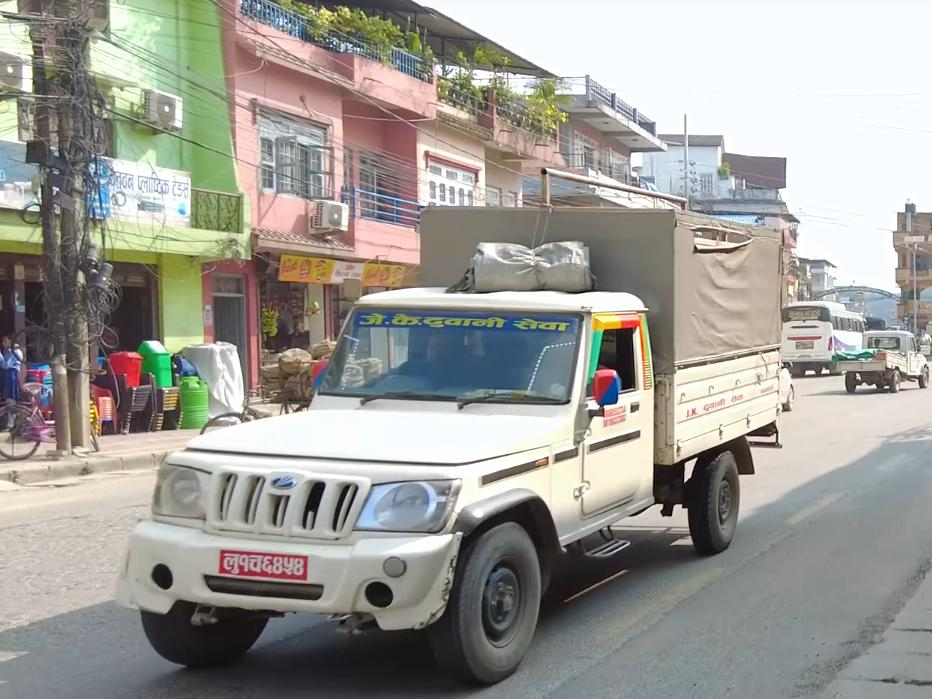bus: (772, 282, 882, 379)
transport_vehicle: (103, 189, 785, 699), (833, 330, 929, 396)
